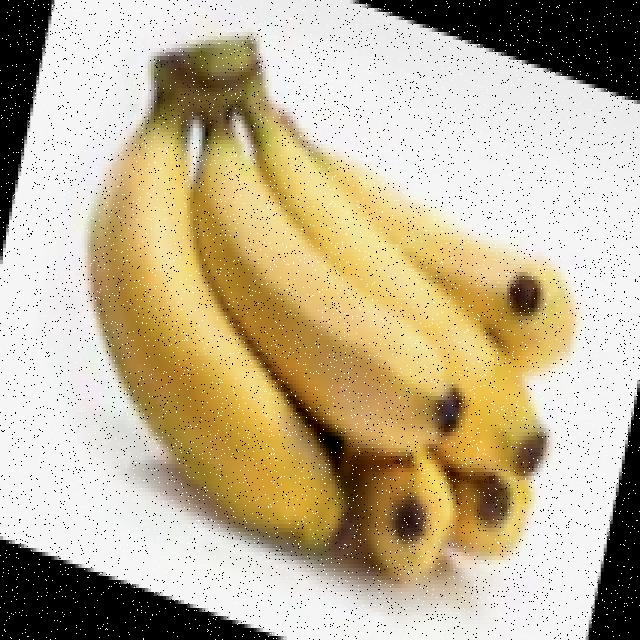god quality banana: (88, 40, 568, 578)
